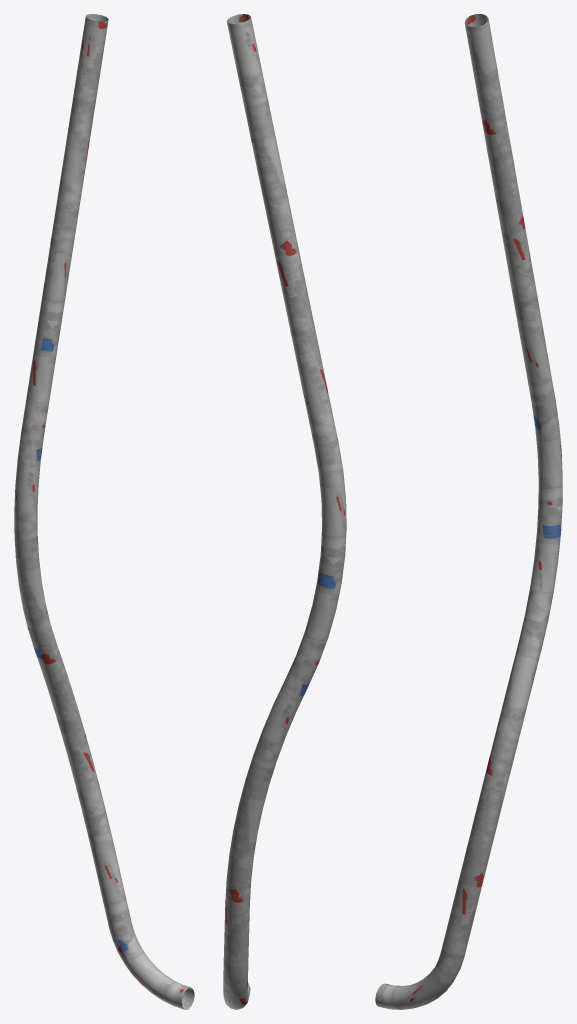
The model's file is Pipe__8.fbx.
The picture shows the model from 3 angles, left to right: view 1: azimuth 90°, elevation 25°; view 2: azimuth 210°, elevation 25°; view 3: azimuth 270°, elevation 25°; orthographic projection. The views are drawn at different scales.
Parts seen in each view (by area): view 1: MAT_Pipe_01; view 2: MAT_Pipe_01; view 3: MAT_Pipe_01.
Part boxes in pixels (left/top/right/bottom): MAT_Pipe_01: left=14, top=14, right=194, bottom=1009; MAT_Pipe_01: left=223, top=14, right=346, bottom=1009; MAT_Pipe_01: left=375, top=14, right=562, bottom=1009.
Bounding box in the file's own units: 1.48 × 18.41 × 3.1.
1 material, 1 textured.
